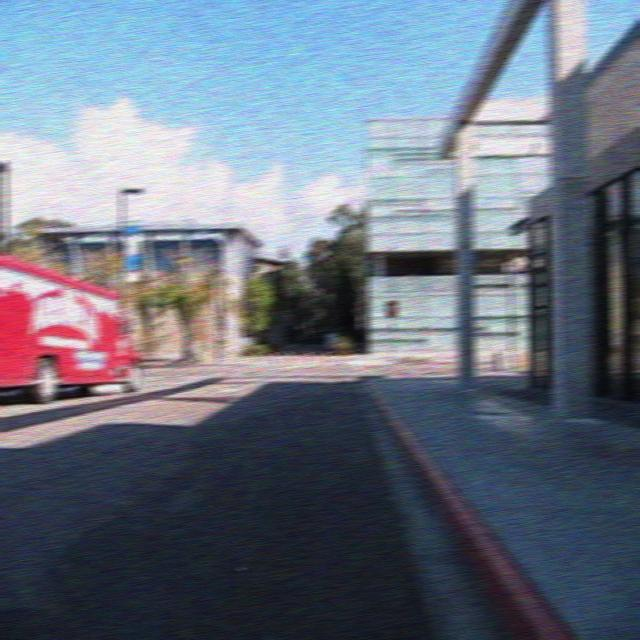stop_sign: (382, 297, 400, 319)
